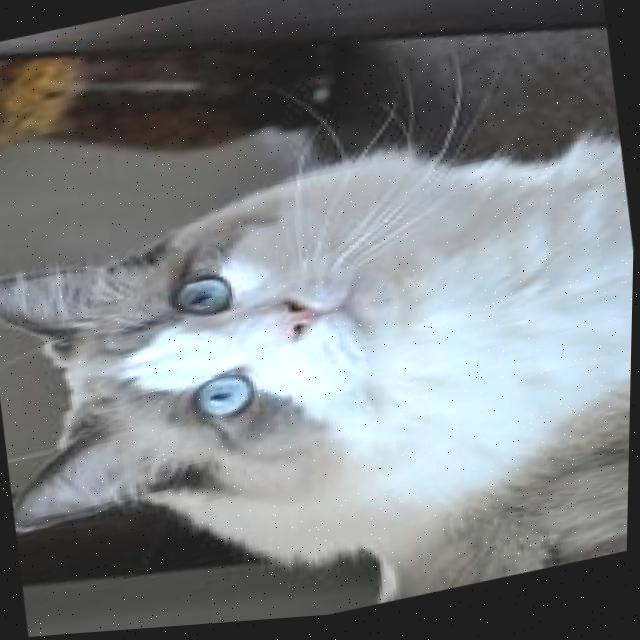Ragdoll: (0, 105, 638, 640)
